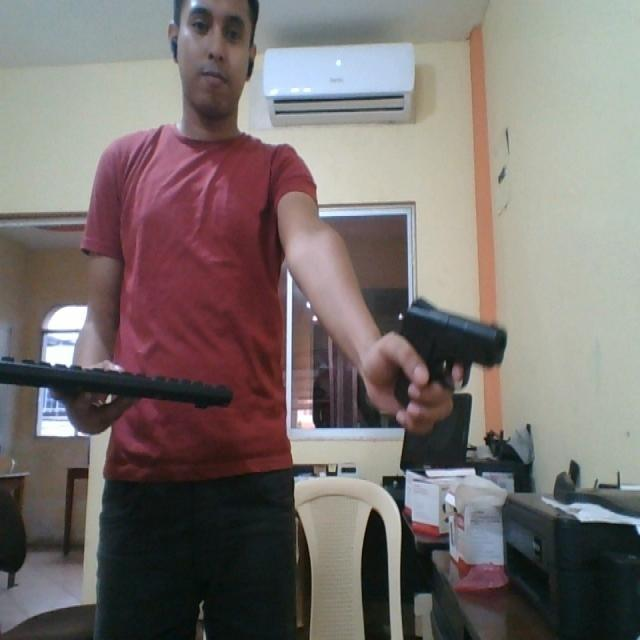weapon: (386, 296, 512, 411)
